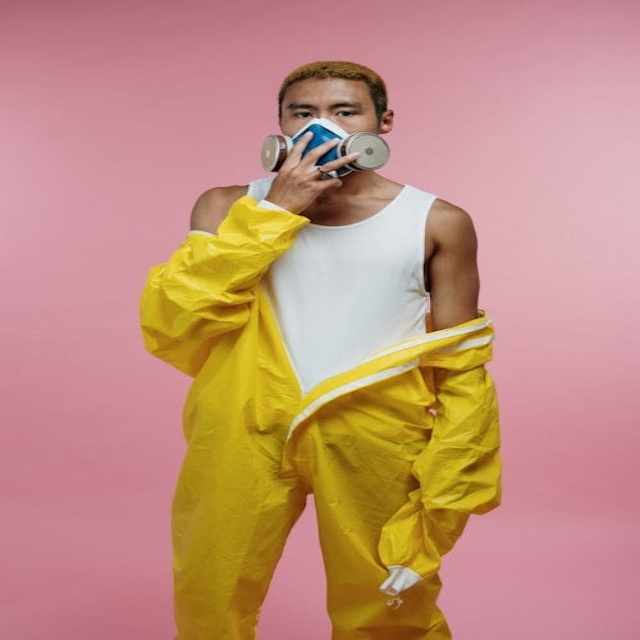Mascara: (256, 119, 393, 175)
Sin_gafas: (280, 96, 365, 120)
Sin_guantes: (259, 125, 369, 210)
